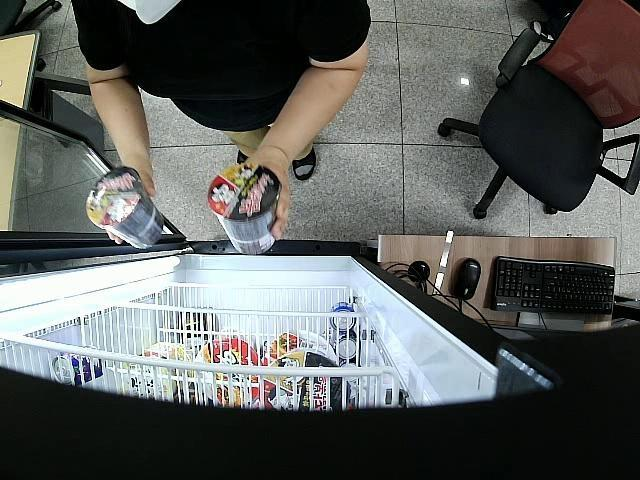08_buldak_S: (208, 164, 280, 251), (88, 167, 162, 248)
